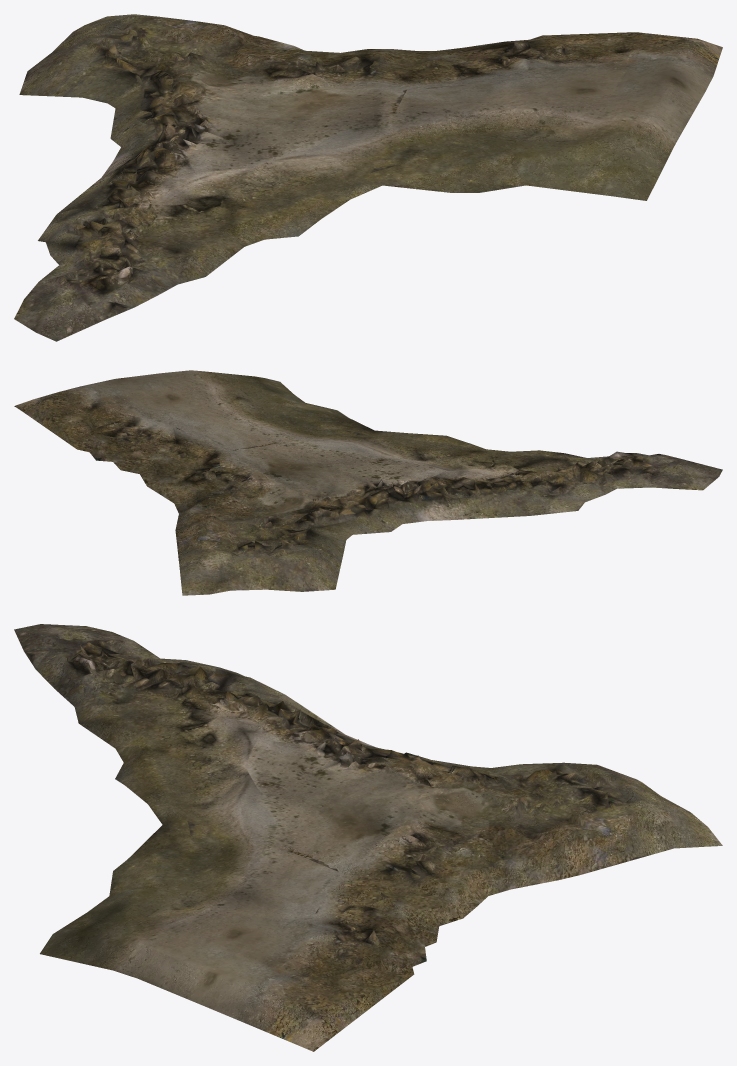
The model's file is rocks.glb.
The picture shows the model from 3 angles, top to bottom: view 1: azimuth 30°, elevation 25°; view 2: azimuth 150°, elevation 25°; view 3: azimuth 270°, elevation 25°; orthographic projection. The views are drawn at different scales.
Parts seen in each view (by area): view 1: coast_rocks_01; view 2: coast_rocks_01; view 3: coast_rocks_01.
Boxes of the visible parts, x1=… form: coast_rocks_01: x1=14, y1=14, x2=722, y2=341; coast_rocks_01: x1=14, y1=370, x2=722, y2=595; coast_rocks_01: x1=14, y1=624, x2=722, y2=1051.
Size of the model in its own units: 59.34 by 3.28 by 42.48.
Materials: 1 (1 with a texture image).
